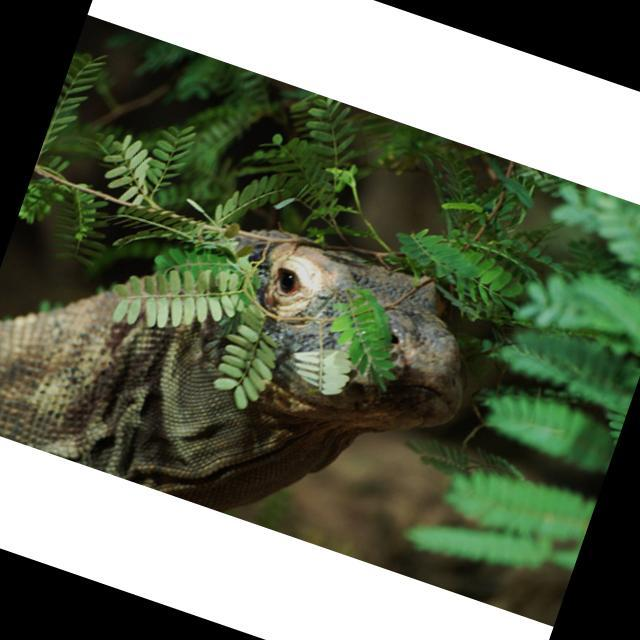KomodoDragon: (0, 140, 501, 572)
